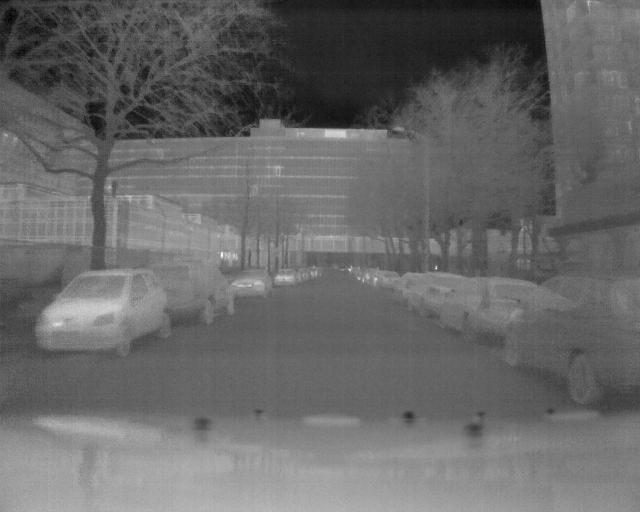car: (501, 277, 640, 407), (33, 264, 176, 358), (154, 253, 236, 325), (442, 282, 514, 341), (231, 268, 273, 300), (276, 265, 301, 290)
